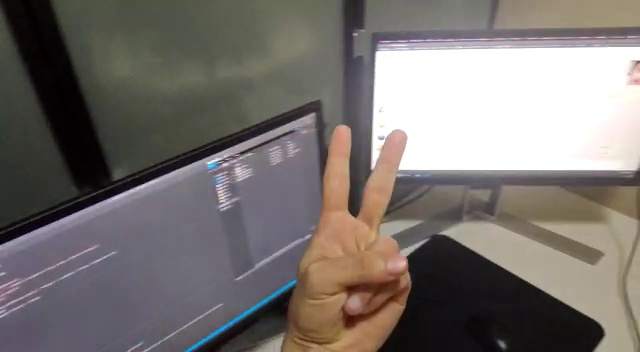Peace: (277, 124, 415, 350)
